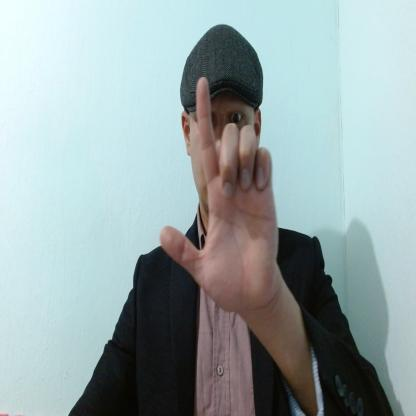L: (161, 76, 277, 306)
